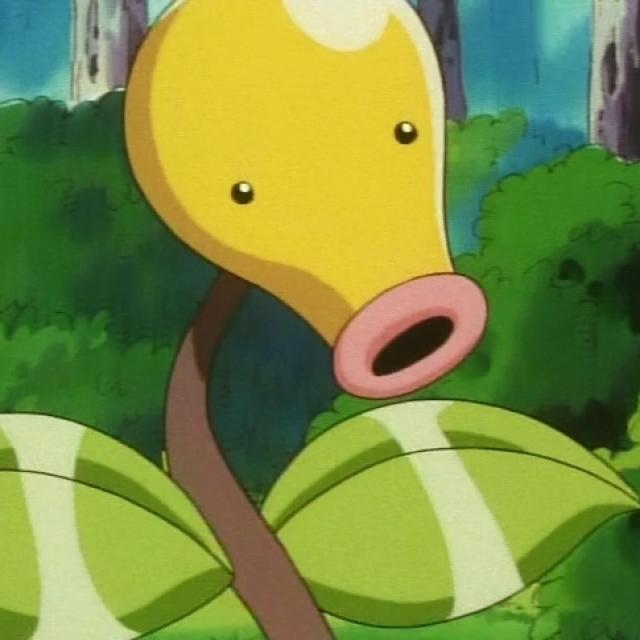Bellsprout: (113, 0, 504, 640)
